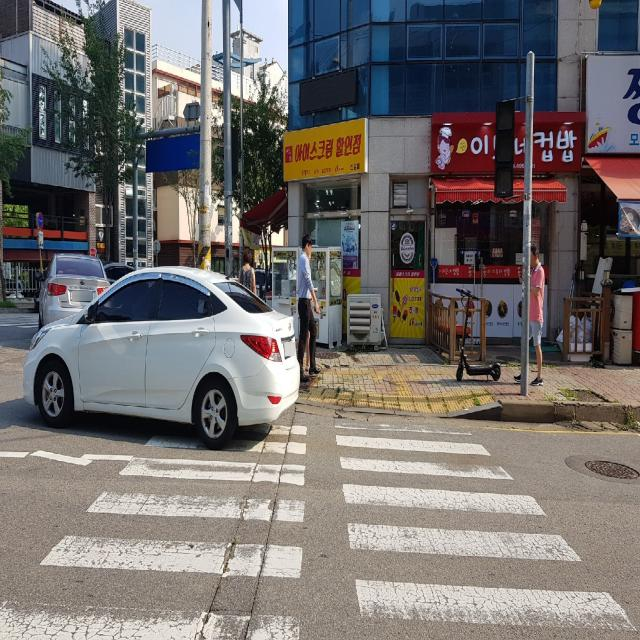횡단보도: (0, 422, 640, 640)
